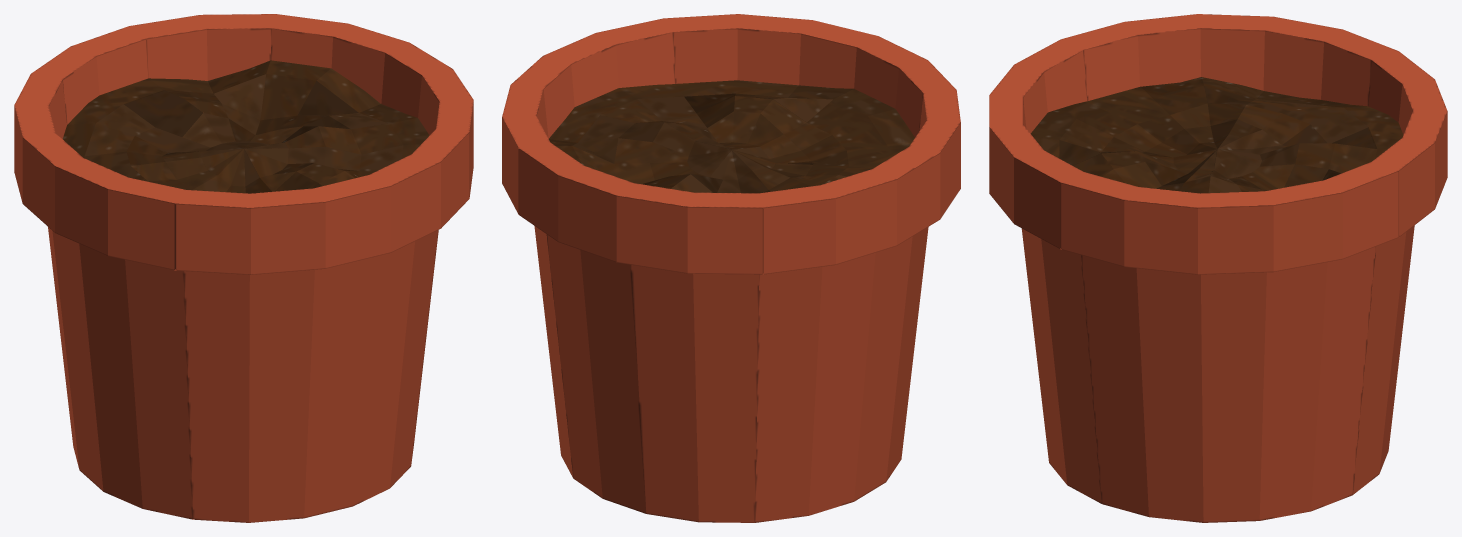
File: Flower pot.fbx
3 views of the same model, side by side, from view 1: azimuth 30°, elevation 25°; view 2: azimuth 150°, elevation 25°; view 3: azimuth 270°, elevation 25° (orthographic).
Parts seen in each view (by area): view 1: flower pot, soil; view 2: flower pot, soil; view 3: flower pot, soil.
Boxes of the visible parts, x1=… form: flower pot: x1=14, y1=14, x2=473, y2=522; soil: x1=63, y1=60, x2=429, y2=193; flower pot: x1=502, y1=14, x2=960, y2=522; soil: x1=549, y1=80, x2=914, y2=193; flower pot: x1=989, y1=14, x2=1447, y2=522; soil: x1=1030, y1=77, x2=1403, y2=193.
Size of the model in its own units: 136 by 111 by 136.
2 materials, 2 textured.
